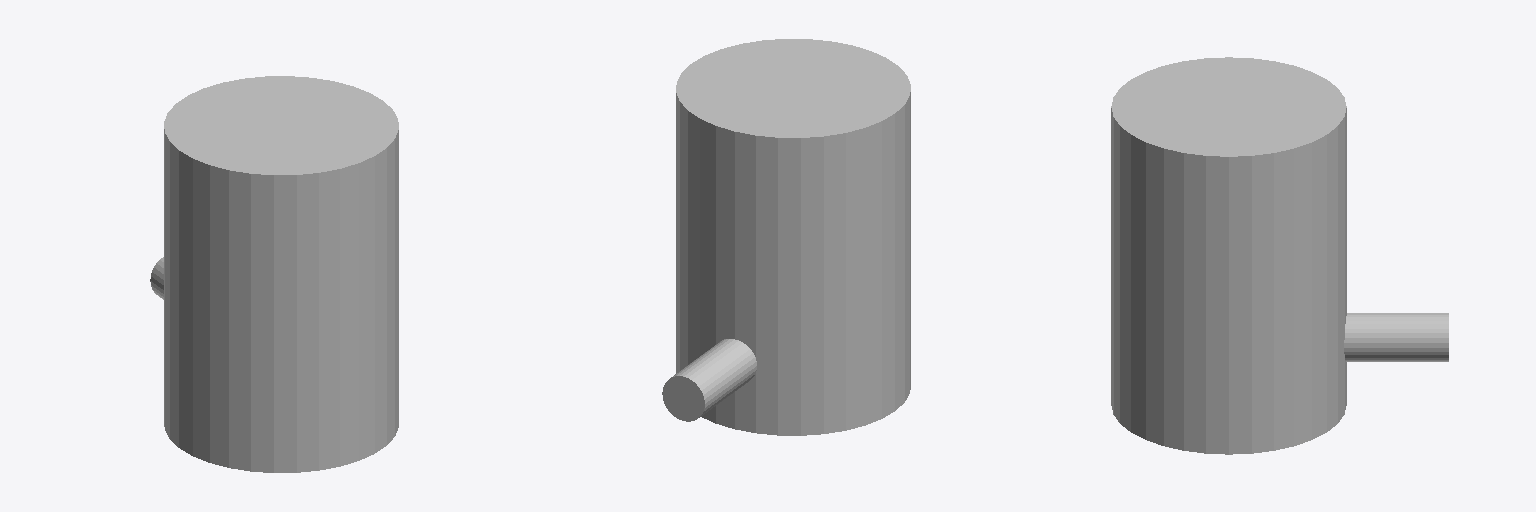
Rendered from player.obj.
3 views of the same model, side by side, from view 1: azimuth 30°, elevation 25°; view 2: azimuth 150°, elevation 25°; view 3: azimuth 270°, elevation 25° (orthographic).
Visible parts, largest first — view 1: Cylinder; view 2: Cylinder, Cylinder.001; view 3: Cylinder, Cylinder.001.
Boxes of the visible parts, x1=… form: Cylinder: x1=164, y1=76, x2=398, y2=472; Cylinder: x1=676, y1=39, x2=910, y2=435; Cylinder.001: x1=662, y1=339, x2=756, y2=421; Cylinder: x1=1111, y1=57, x2=1346, y2=454; Cylinder.001: x1=1344, y1=313, x2=1448, y2=361.
Size of the model in its own units: 2 by 2.79 by 2.87.